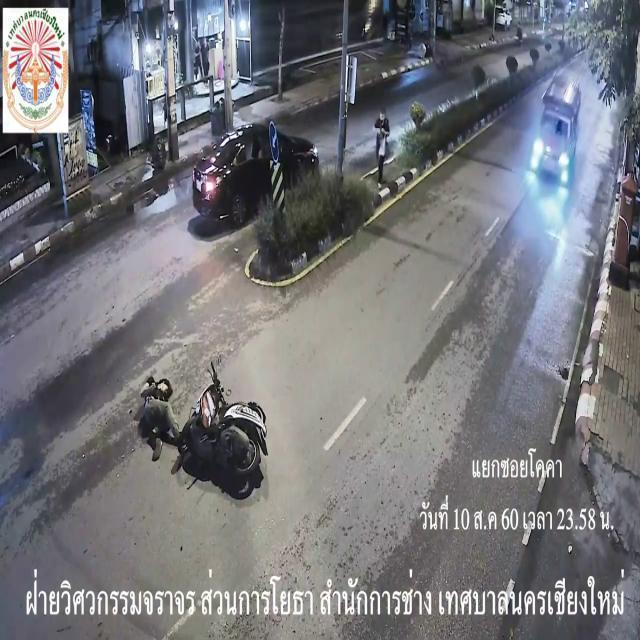accident: (132, 360, 272, 504)
